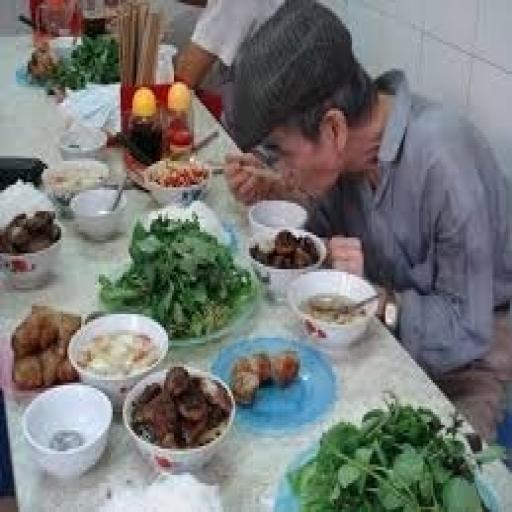eating: (223, 2, 510, 440)
